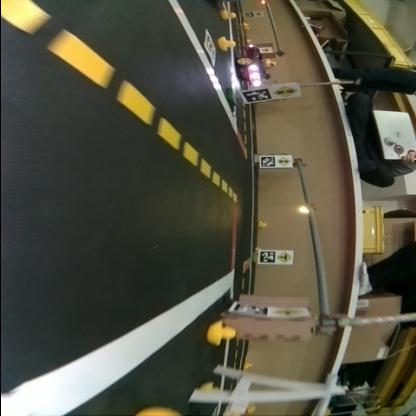Duckie: (207, 321, 235, 343), (218, 36, 235, 48), (264, 57, 276, 67), (223, 10, 236, 18), (244, 362, 252, 368), (259, 221, 266, 226)
Duckiebot: (236, 45, 264, 85)
Intersection sign: (271, 306, 305, 317), (276, 251, 292, 263)
QR code: (234, 302, 268, 316), (204, 28, 216, 65), (242, 88, 270, 102), (259, 250, 275, 262), (261, 156, 274, 166)
Signal sign: (272, 85, 298, 97), (278, 156, 290, 166)
Traffic light: (296, 205, 314, 213)
